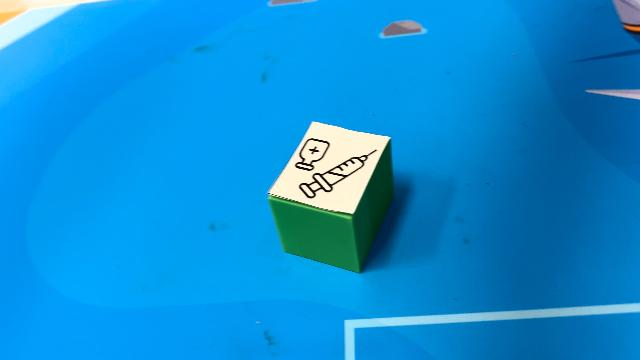syringe: (266, 121, 394, 274)
